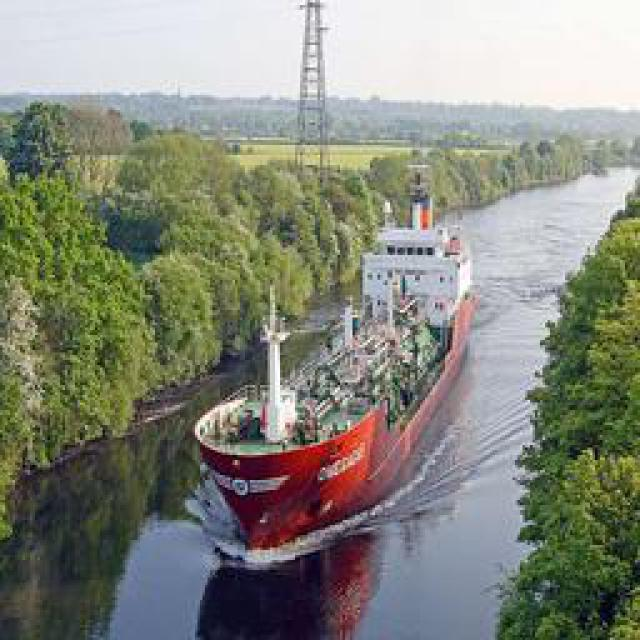Ship: (185, 217, 488, 580)
